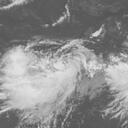cyclone: (3, 41, 92, 118)
